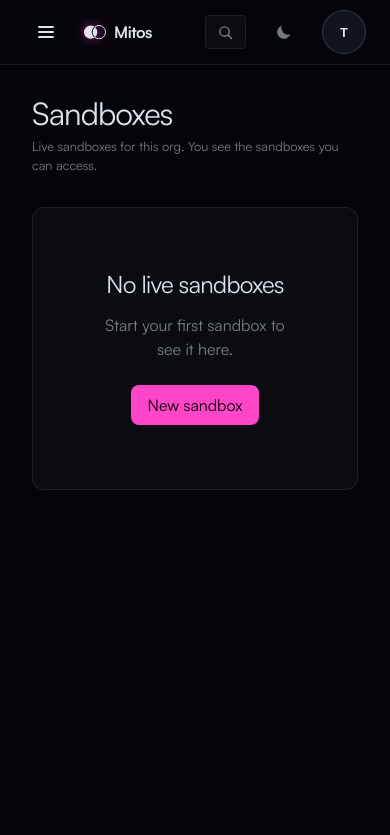
Test: AppShell responsive drawer › closes the drawer on Escape
Click the button named "open navigation menu" at (46,32), box top-left (24, 10), bottom-right (68, 54)
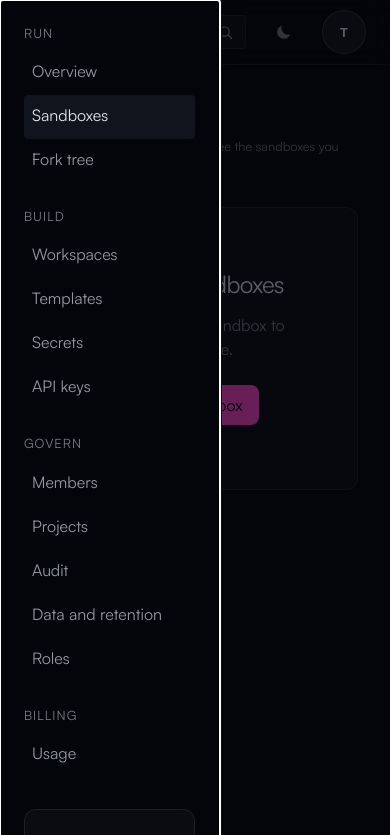
Expected: the button named "open navigation menu" is expanded, top-left (24, 10), bottom-right (68, 54)
Press Escape
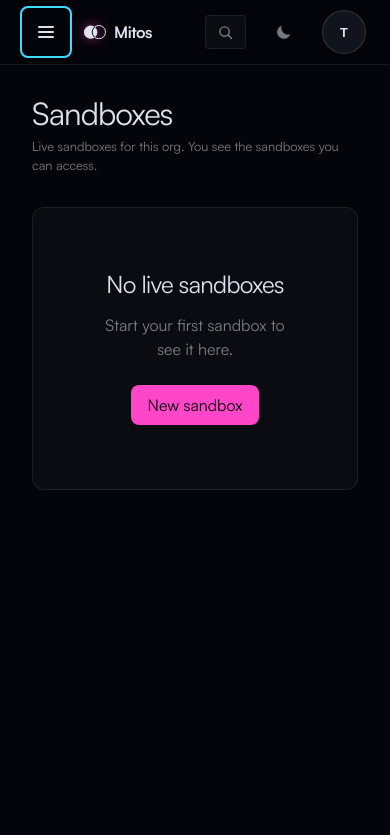
Expected: the button named "open navigation menu" is collapsed, top-left (24, 10), bottom-right (68, 54)
